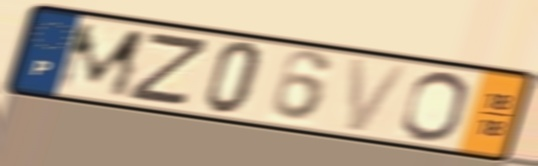0: (204, 40, 269, 119)
6: (267, 47, 335, 128)
M: (51, 22, 149, 100)
O: (397, 70, 471, 145)
V: (346, 55, 414, 135)
Z: (123, 32, 214, 110)
